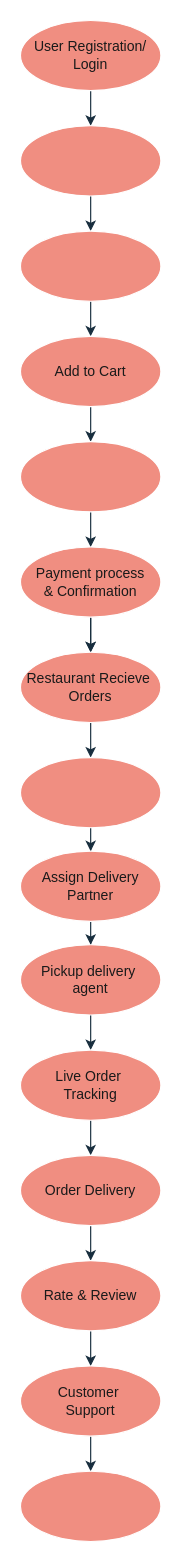
This 181x1562 diagram has some shape labels left out. Here are the shapes that lost their labels. From the top down, the centre of each, then its label:
At pixel 90 160: "Browser Restaurant".
At pixel 90 265: "View menu & Items".
At pixel 90 476: "Place Order".
At pixel 90 792: "Order Preparation".
At pixel 90 1505: "Order completed".
